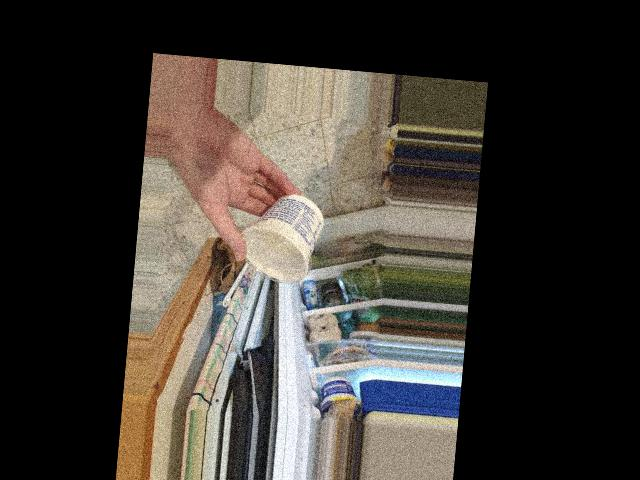cotage: (247, 193, 322, 284)
